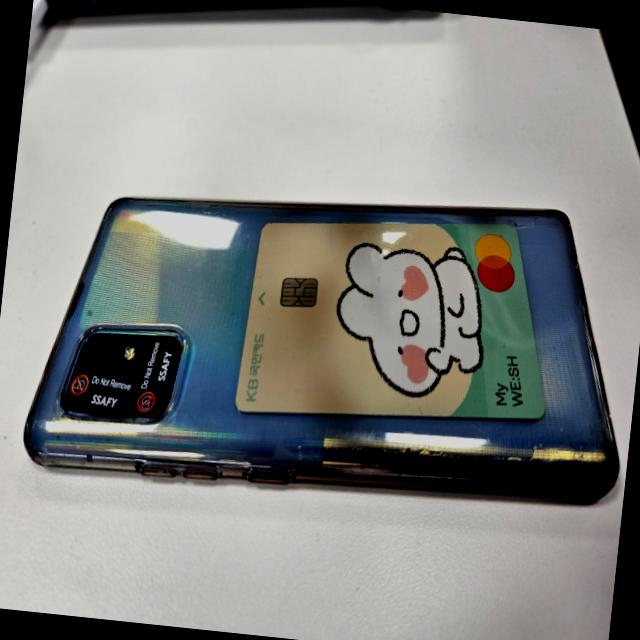phone: (19, 152, 640, 533)
sticker: (129, 325, 183, 425), (61, 357, 136, 422)
